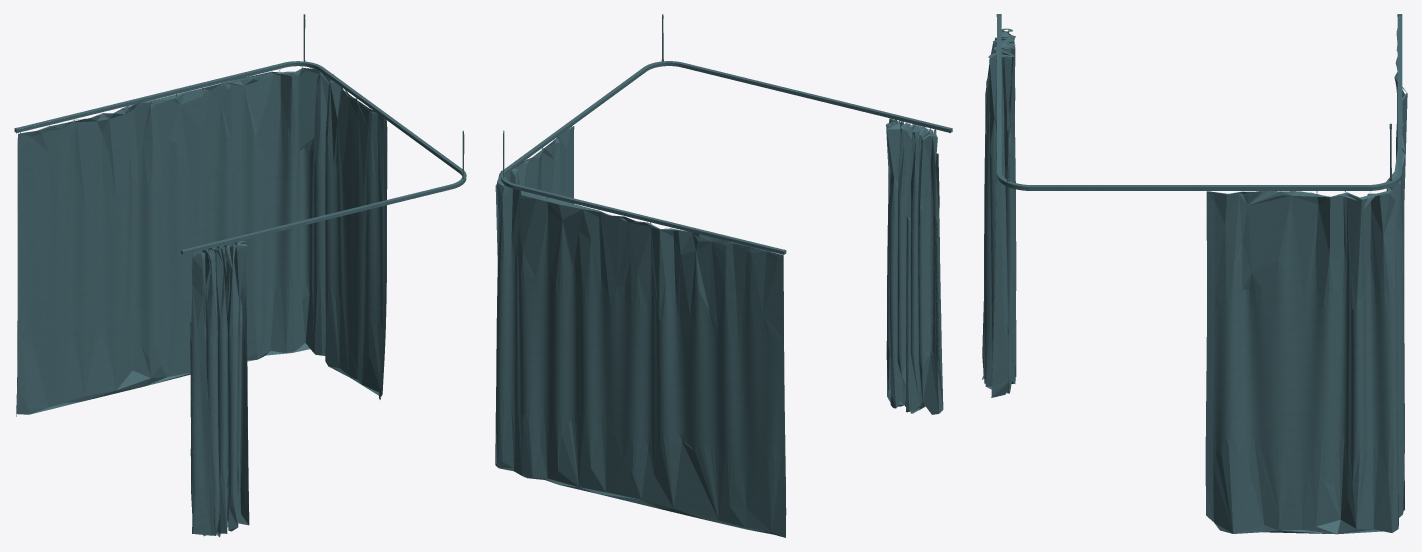
File: screen_hospital_b04.glb
3 views of the same model, side by side, from view 1: azimuth 30°, elevation 25°; view 2: azimuth 150°, elevation 25°; view 3: azimuth 270°, elevation 25° (orthographic). The views are drawn at different scales.
Visible parts, largest first — view 1: geometry_0; view 2: geometry_0; view 3: geometry_0.
Boxes of the visible parts, box(x1,y1,x2,y2) form: geometry_0: box(14, 14, 466, 537); geometry_0: box(495, 14, 952, 537); geometry_0: box(982, 14, 1407, 534).
Bounding box in the file's own units: 0.3947 × 0.42 × 0.3997.
Materials: 1 (1 with a texture image).
